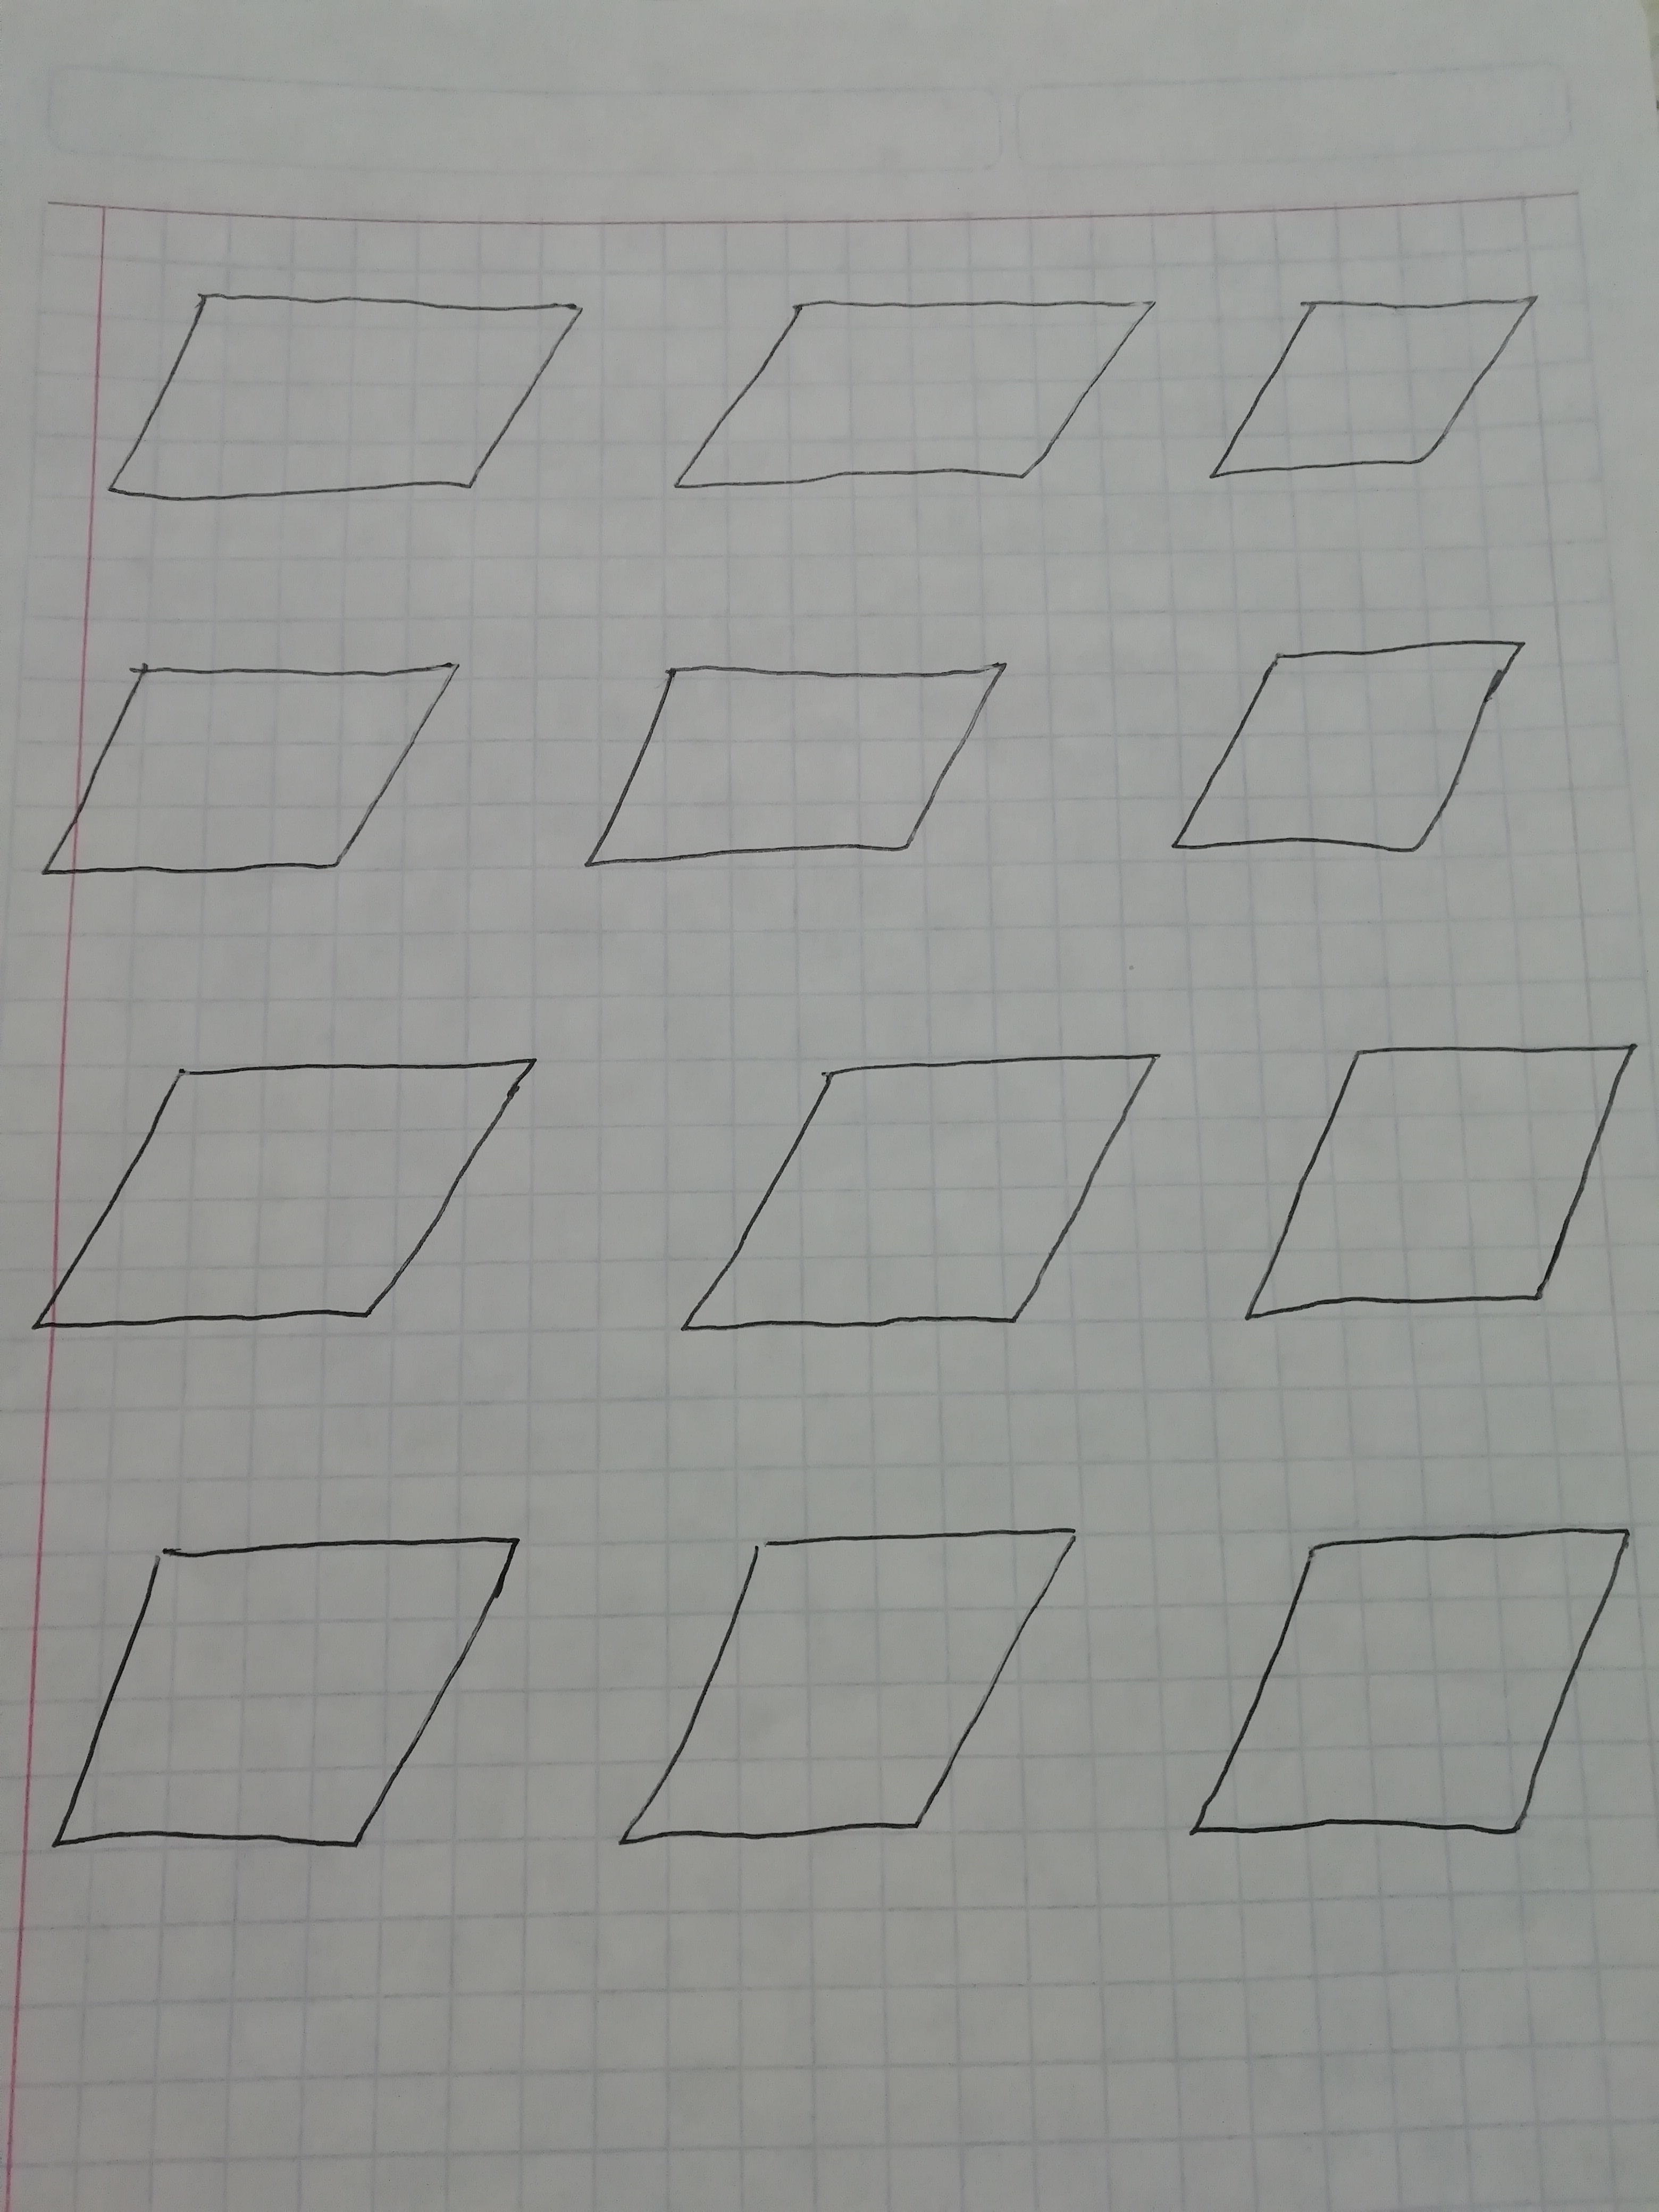scan: (12, 1503, 558, 1893), (16, 1021, 575, 1390), (591, 1500, 1112, 1883), (1154, 1507, 1659, 1872), (640, 1031, 1197, 1357), (1225, 1014, 1659, 1357), (59, 263, 605, 535), (650, 258, 1178, 535), (9, 627, 491, 921), (554, 634, 1044, 918), (1147, 603, 1561, 911), (1197, 251, 1596, 524)
